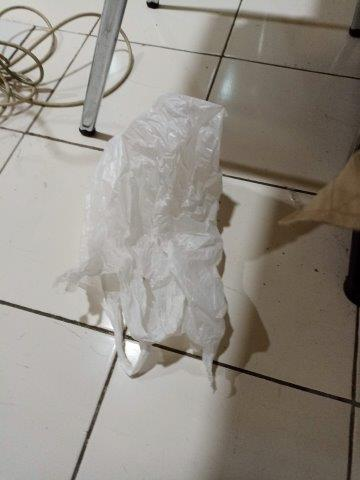plastik: (79, 91, 227, 379)
